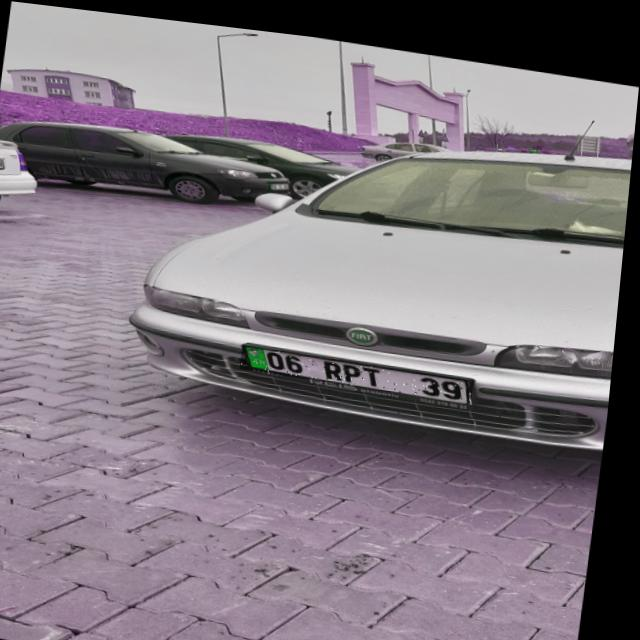license_plate: (245, 338, 480, 392)
